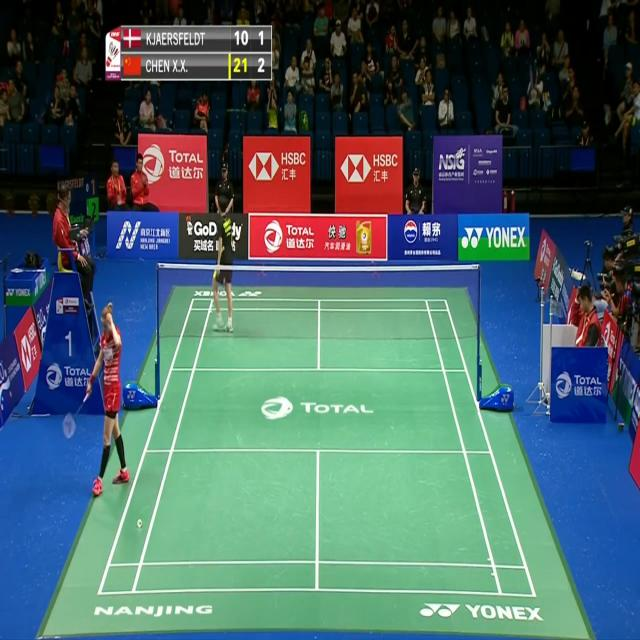Player1: (65, 302, 131, 502)
Player2: (206, 192, 240, 339)
